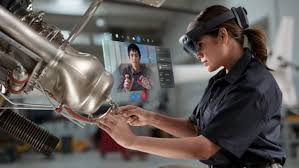hololens: (177, 7, 251, 58)
